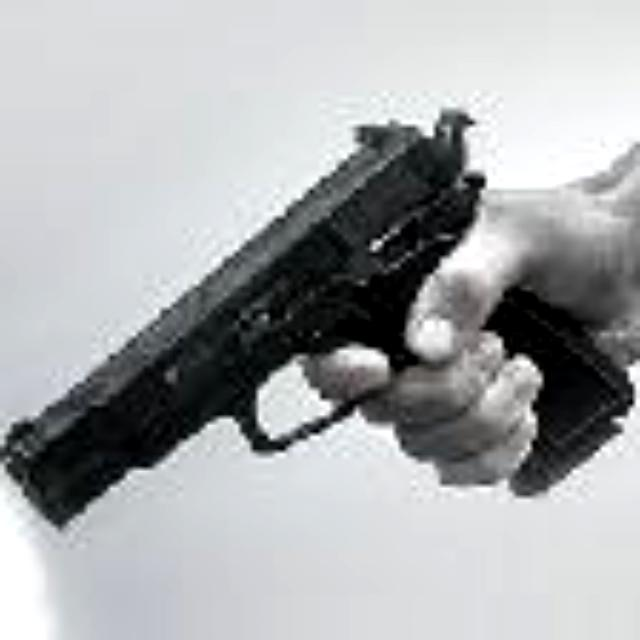pistol: (0, 109, 640, 537), (0, 105, 640, 528)
